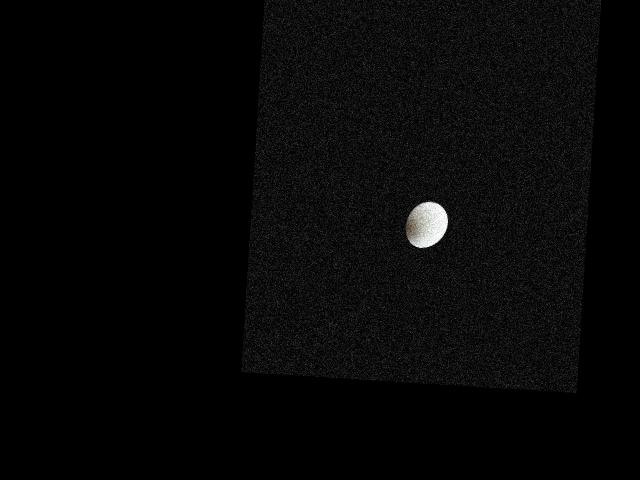egg: (404, 200, 448, 249)
